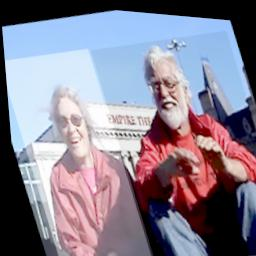nonspitting: (84, 15, 255, 255), (2, 41, 152, 255)
